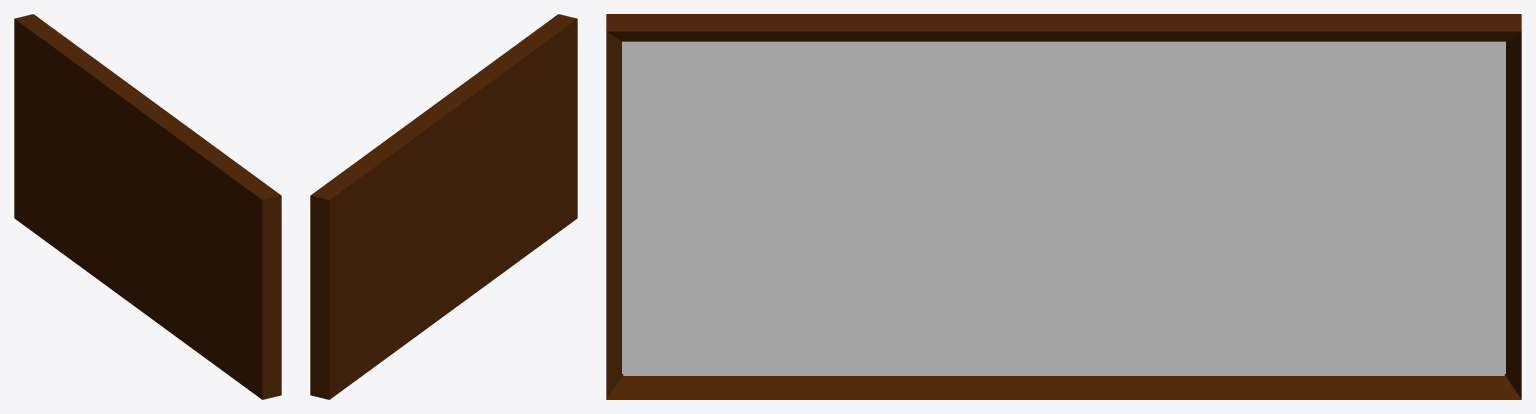
The model's file is Motto.fbx.
3 renders of one model, left to right at view 1: azimuth 30°, elevation 25°; view 2: azimuth 150°, elevation 25°; view 3: azimuth 270°, elevation 25°, orthographic. The views are drawn at different scales.
Parts seen in each view (by area): view 1: Cube; view 2: Cube; view 3: Cube.002, Cube, Cube.001.
Boxes of the visible parts, x1,y1,x2,y2 form: Cube: (14, 14, 281, 399); Cube: (310, 14, 577, 399); Cube.002: (623, 41, 1504, 375); Cube: (606, 14, 1521, 399); Cube.001: (622, 41, 1505, 373).
Bounding box in the file's own units: 8 × 80 × 180.
